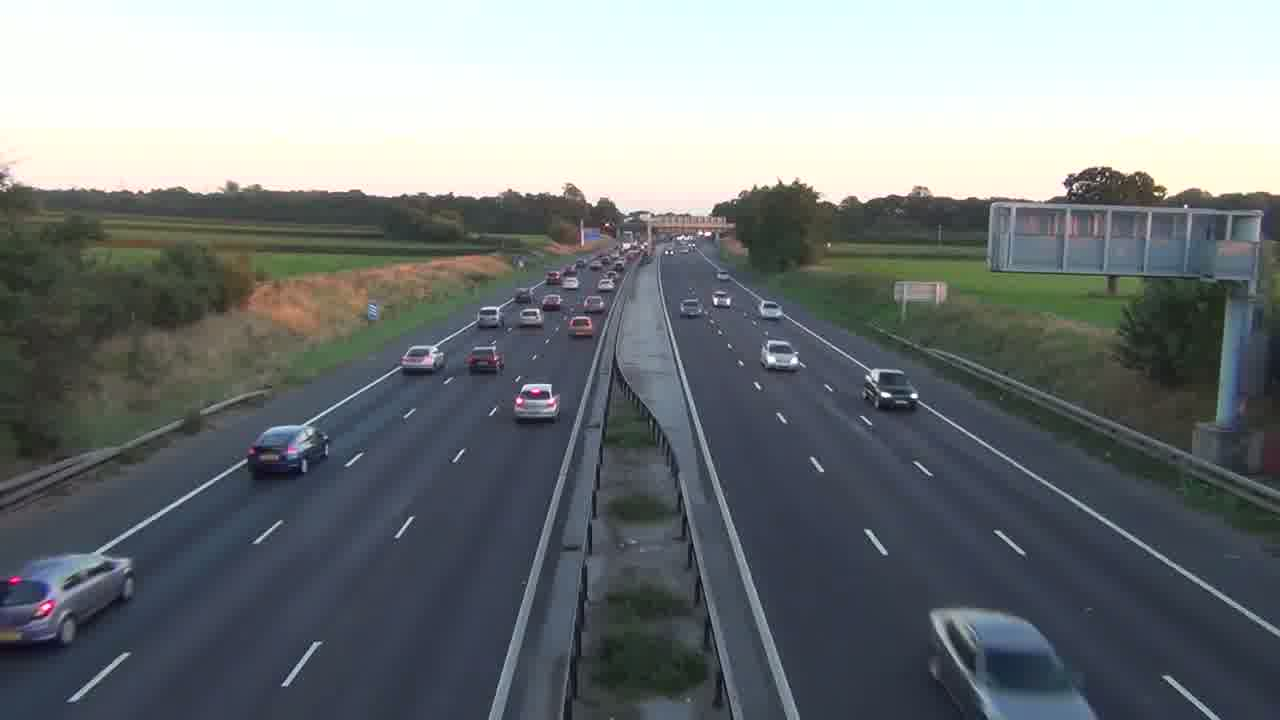car: (926, 606, 1098, 719), (0, 552, 136, 648), (246, 423, 331, 478), (862, 368, 919, 411), (513, 382, 559, 422), (759, 339, 805, 373), (466, 341, 504, 374), (399, 344, 438, 374), (678, 296, 704, 318), (478, 305, 501, 329), (760, 300, 783, 319)
